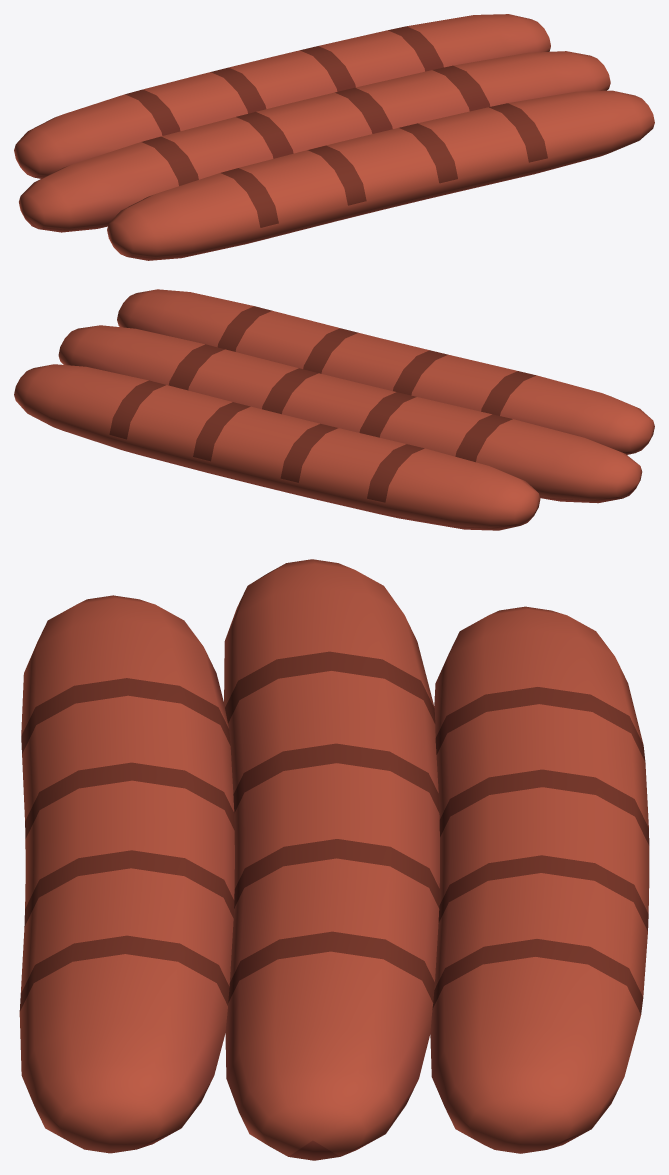
The model's file is sausage.glb.
3 renders of one model, top to bottom at view 1: azimuth 30°, elevation 25°; view 2: azimuth 150°, elevation 25°; view 3: azimuth 270°, elevation 25°, orthographic. The views are drawn at different scales.
Parts seen in each view (by area): view 1: body; view 2: body; view 3: body.
Part boxes in pixels (box(x1,y1,x2,y2)): body: box(14, 14, 654, 260); body: box(14, 289, 654, 530); body: box(19, 559, 649, 1160).
Size of the model in its own units: 1.02 by 0.1 by 0.4835.
